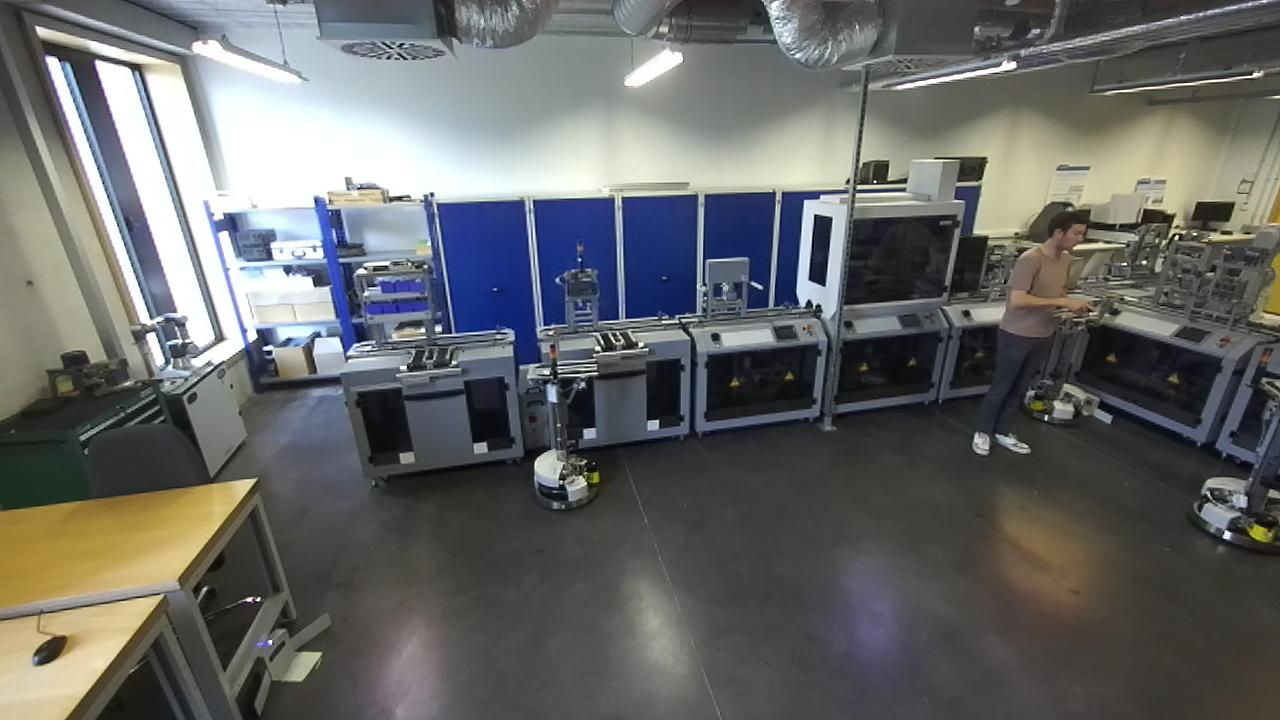AMR: (1191, 348, 1280, 558), (525, 333, 605, 512)
Human: (972, 202, 1089, 461)
